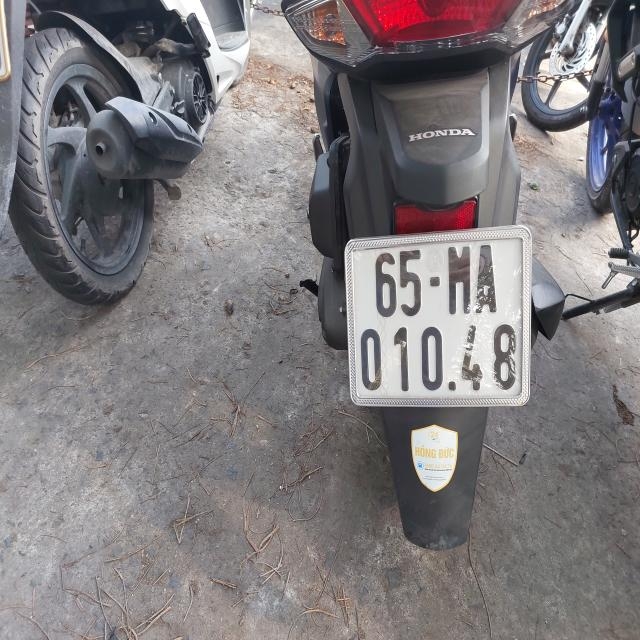0: (359, 329, 383, 389), (421, 326, 443, 391)
1: (392, 328, 411, 392)
4: (462, 325, 483, 392)
5: (398, 250, 421, 316)
6: (374, 253, 397, 318)
8: (492, 324, 517, 392)
A: (476, 246, 496, 316)
M: (448, 244, 472, 316)
